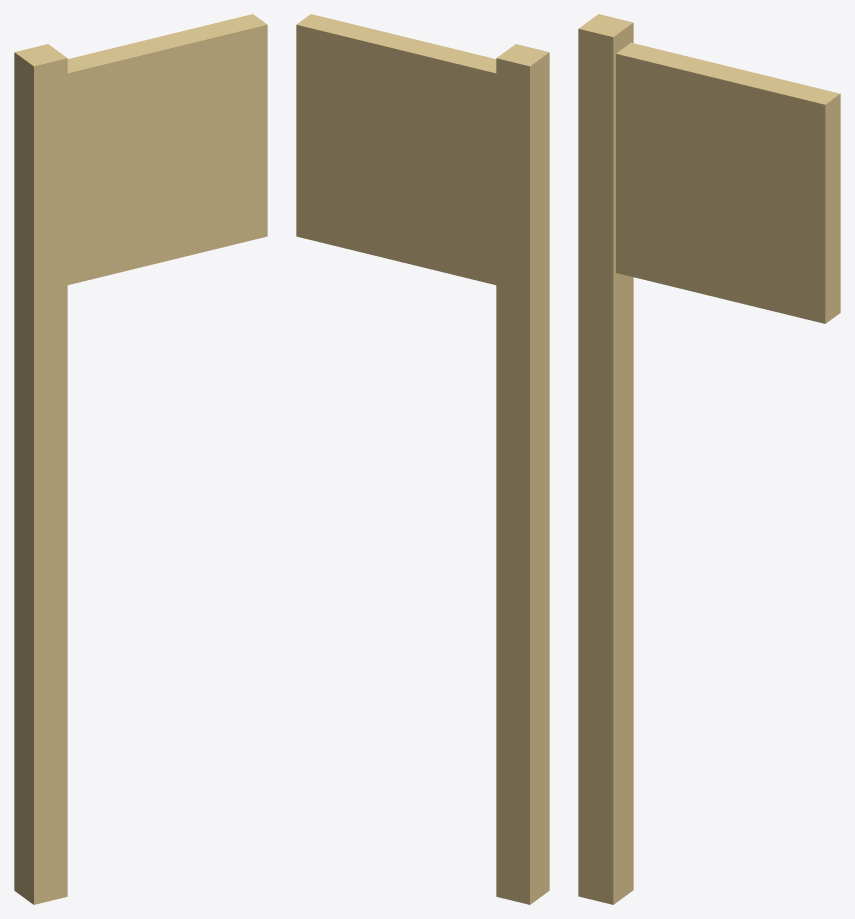
Rendered from dwarven_war_axe.glb.
The picture shows the model from 3 angles, left to right: view 1: azimuth 30°, elevation 25°; view 2: azimuth 150°, elevation 25°; view 3: azimuth 330°, elevation 25°; orthographic projection. The views are drawn at different scales.
Parts seen in each view (by area): view 1: dwarven_war_axe; view 2: dwarven_war_axe; view 3: dwarven_war_axe.
Part boxes in pixels (<box>): dwarven_war_axe: <box>14,14,267,904</box>; dwarven_war_axe: <box>296,14,549,904</box>; dwarven_war_axe: <box>578,14,840,904</box>.
Size of the model in its own units: 0.28 by 0.95 by 0.04.
